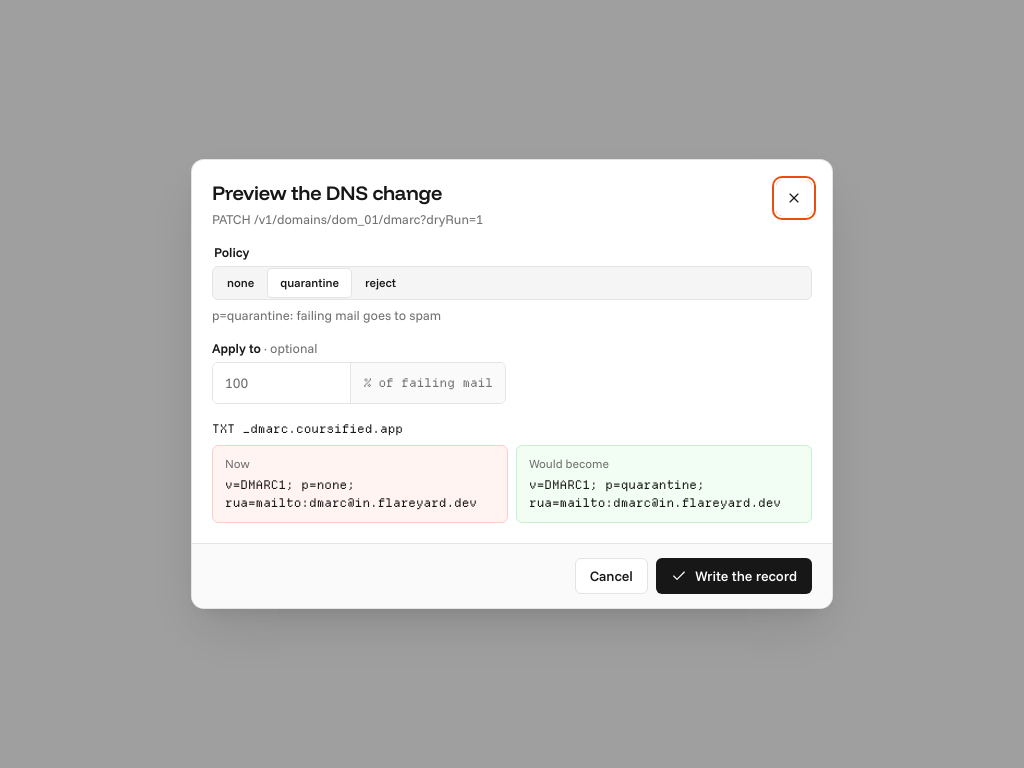
Test case: DMARC policy change › previews with a dry run, then writes only on confirm
Check: the text "v=DMARC1; p=none; rua=mailto:dmarc@in.flareyard.dev" is shown, box [225,476,495,512]
Check: the text "v=DMARC1; p=quarantine; rua=mailto:dmarc@in.flareyard.dev" is shown, box [529,476,799,512]
Click the button "Write the record": (734, 576) [656,558,812,594]
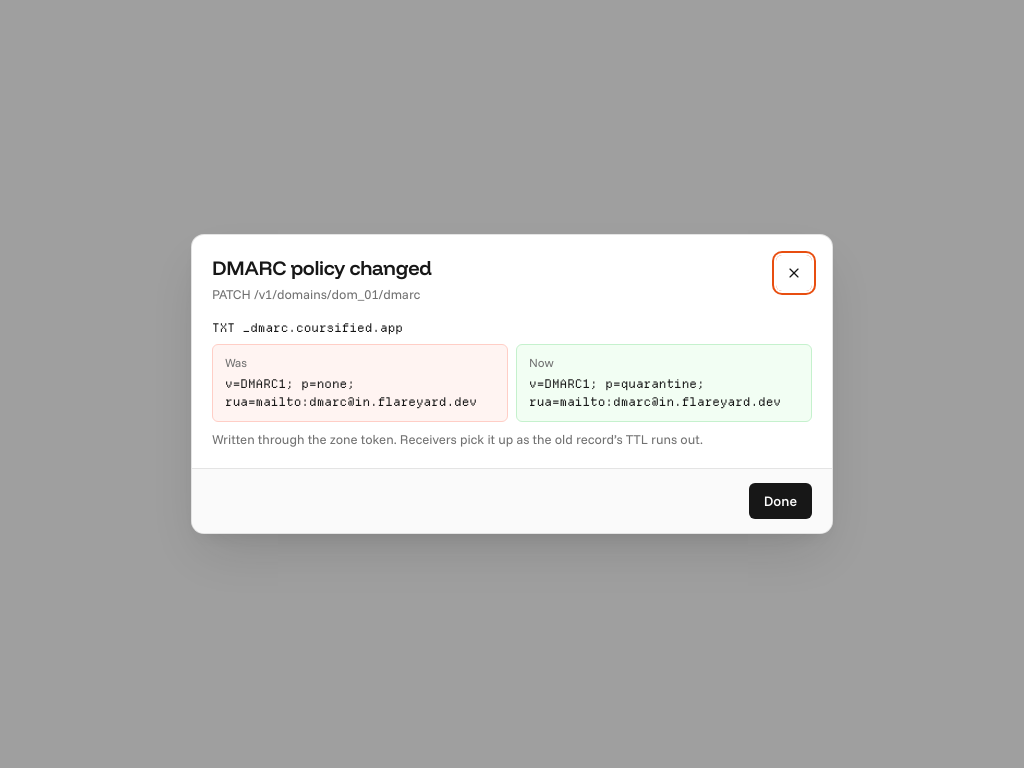
Check: the heading "DMARC policy changed" is shown, box [212,255,432,281]
